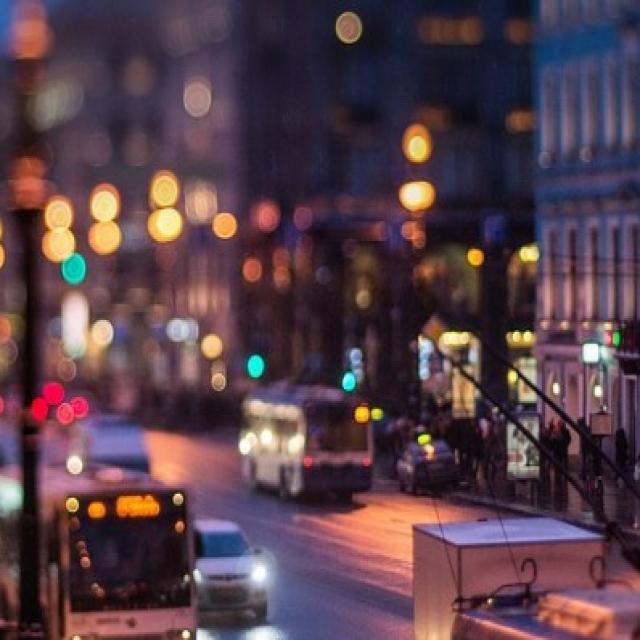bus: (0, 458, 198, 640), (239, 382, 374, 503), (445, 577, 640, 640)
car: (188, 514, 271, 624), (396, 438, 457, 497)
